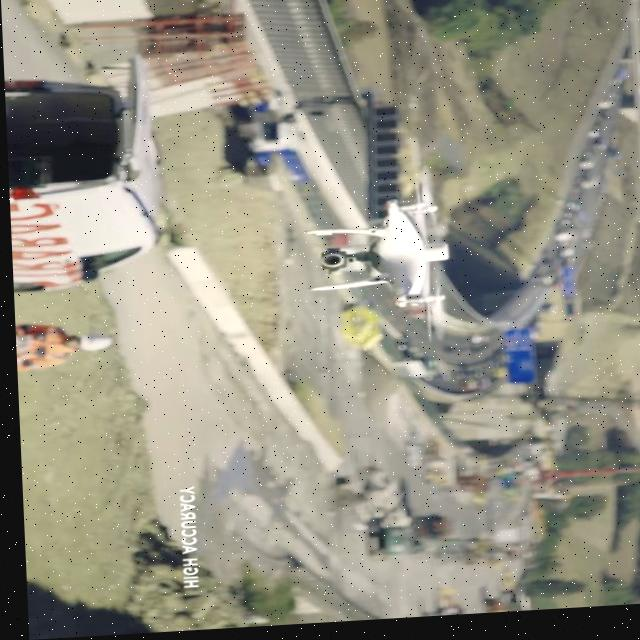drone: (296, 168, 455, 350)
